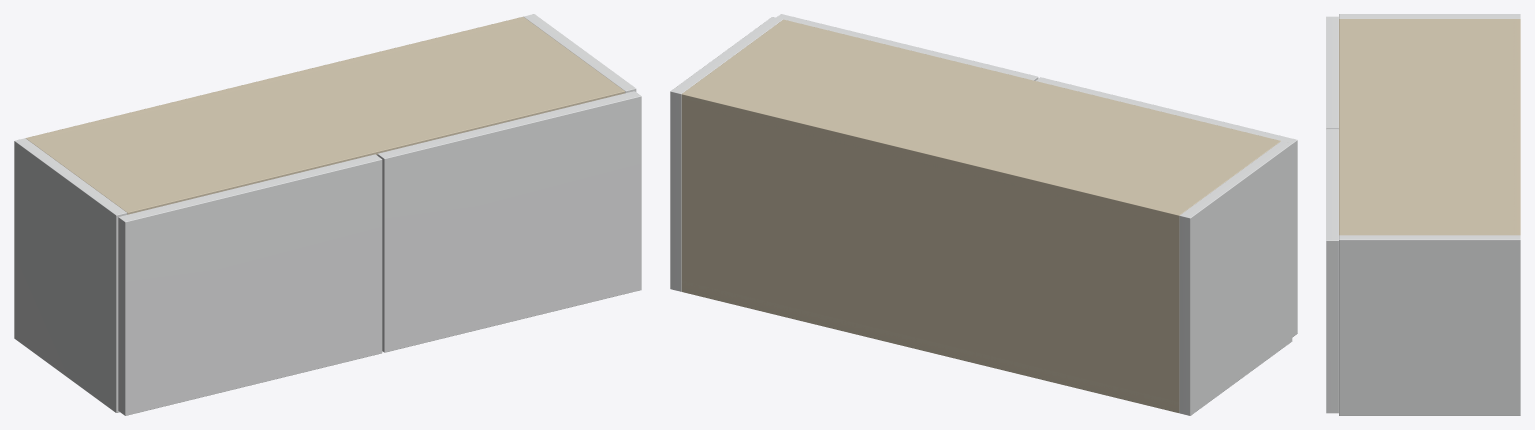
File: oppein-ply-pgw-w3312.glb
3 renders of one model, left to right at view 1: azimuth 30°, elevation 25°; view 2: azimuth 150°, elevation 25°; view 3: azimuth 270°, elevation 25°, orthographic. The views are drawn at different scales.
Visible parts, largest first — view 1: Door, Door.001, Cabinet top, Cabinet side, Cabinet back, Cabinet side.001; view 2: Cabinet back, Cabinet top, Cabinet side, Cabinet bottom, Cabinet side.001, Door, Door.001; view 3: Cabinet top, Cabinet side.001, Door.001, Cabinet back, Door, Cabinet side.
Boxes of the visible parts, x1,y1,x2,y2 form: Door: (118, 154, 382, 415); Door.001: (377, 91, 641, 352); Cabinet top: (29, 17, 625, 214); Cabinet side: (14, 138, 127, 412); Cabinet back: (25, 17, 526, 140); Cabinet side.001: (523, 14, 636, 93); Cabinet back: (681, 91, 1182, 412); Cabinet top: (681, 19, 1280, 225); Cabinet side: (1179, 141, 1292, 415); Cabinet bottom: (681, 281, 1179, 412); Cabinet side.001: (670, 17, 782, 291); Door: (1036, 77, 1297, 337); Door.001: (776, 14, 1038, 80); Cabinet top: (1339, 19, 1520, 235); Cabinet side.001: (1339, 235, 1520, 415); Door.001: (1326, 129, 1338, 413); Cabinet back: (1513, 19, 1520, 235); Door: (1326, 16, 1338, 128); Cabinet side: (1339, 14, 1520, 18).
Bounding box in the file's own units: 0.8382 × 0.3048 × 0.3048.
